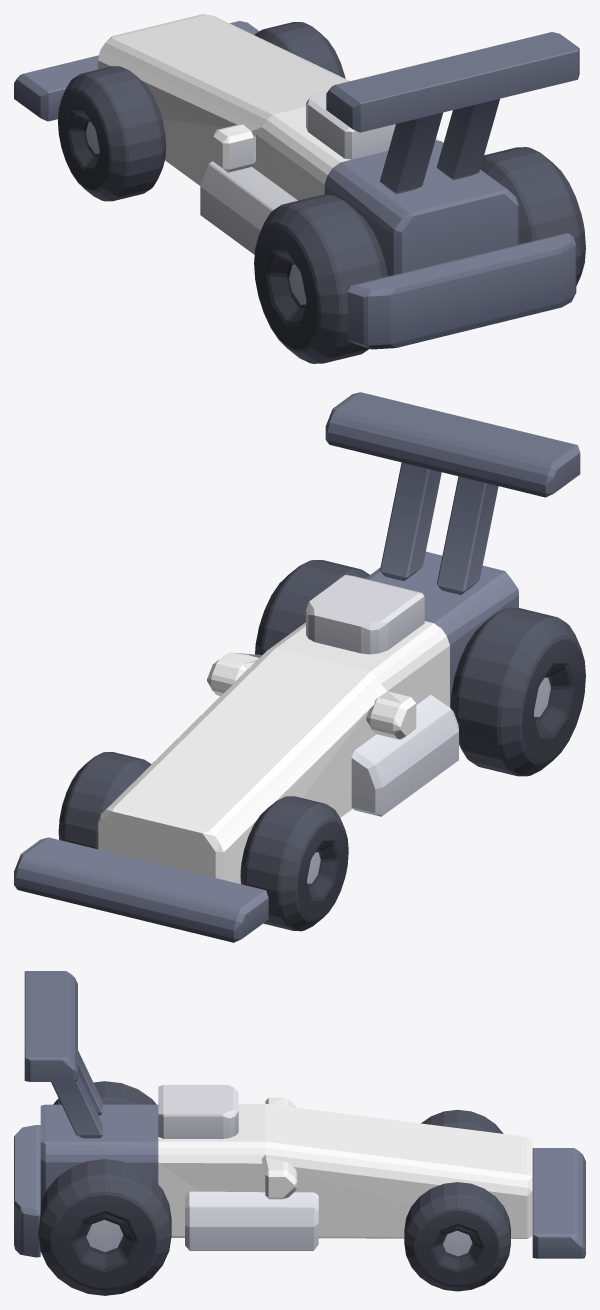
File: KitDragRacer.fbx
The picture shows the model from 3 angles, top to bottom: view 1: azimuth 30°, elevation 25°; view 2: azimuth 150°, elevation 25°; view 3: azimuth 270°, elevation 25°; orthographic projection. The views are drawn at different scales.
Visible parts, largest first — view 1: KitDragRacer_Body, Wheel_RL, Wheel_FL, Wheel_RR, Wheel_FR; view 2: KitDragRacer_Body, Wheel_RL, Wheel_FL, Wheel_FR, Wheel_RR; view 3: KitDragRacer_Body, Wheel_RR, Wheel_FR, Wheel_FL, Wheel_RL.
Part boxes in pixels (x1,y1,x2,y2): KitDragRacer_Body: (14,14,579,349); Wheel_RL: (254,195,387,363); Wheel_FL: (58,66,166,201); Wheel_RR: (480,147,585,285); Wheel_FR: (254,22,345,78); KitDragRacer_Body: (14,392,580,942); Wheel_RL: (450,607,585,776); Wheel_FL: (240,796,348,931); Wheel_FR: (58,752,151,849); Wheel_RR: (255,560,369,654); KitDragRacer_Body: (14,971,585,1258); Wheel_RR: (38,1159,171,1295); Wheel_FR: (404,1182,510,1291); Wheel_FL: (421,1109,503,1133); Wheel_RL: (53,1081,156,1104).
Bounding box in the file's own units: 1.32 × 1.36 × 3.
